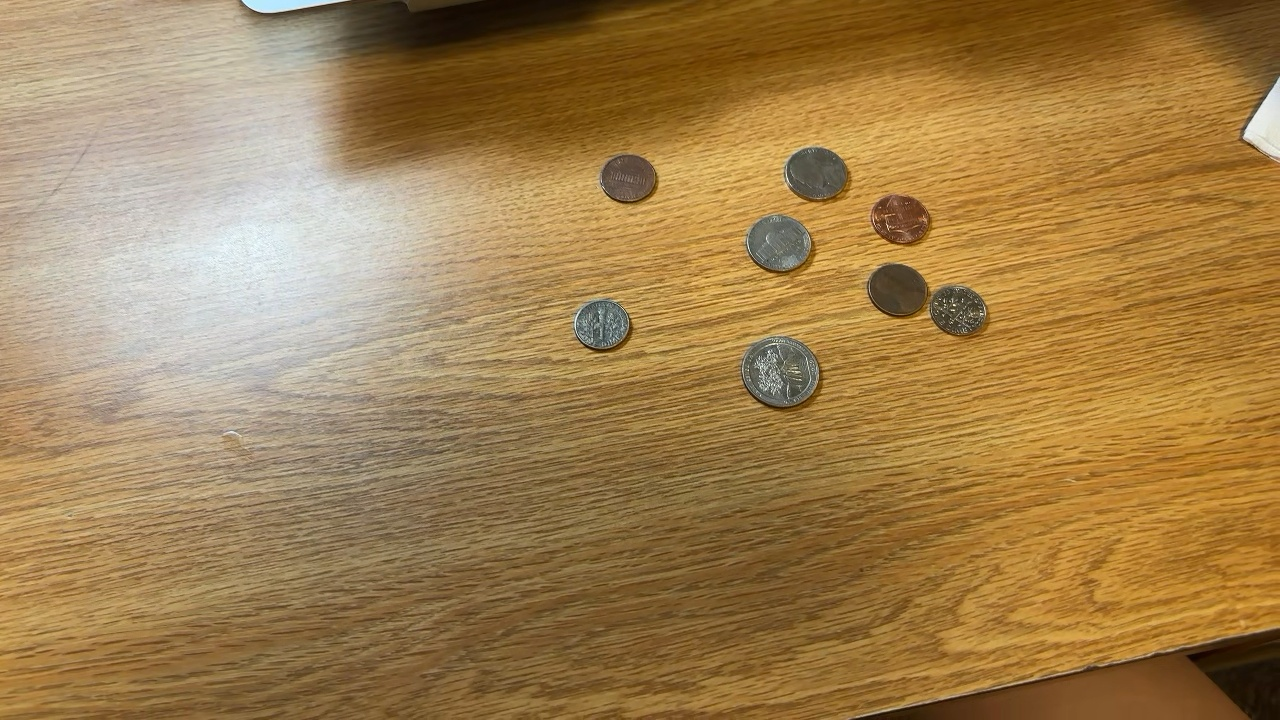dime: (574, 296, 635, 358), (933, 284, 989, 336)
nickel: (746, 213, 818, 275), (782, 146, 853, 204)
penny: (865, 264, 929, 317), (872, 195, 935, 247), (599, 153, 658, 204)
quarter: (739, 335, 824, 411)
